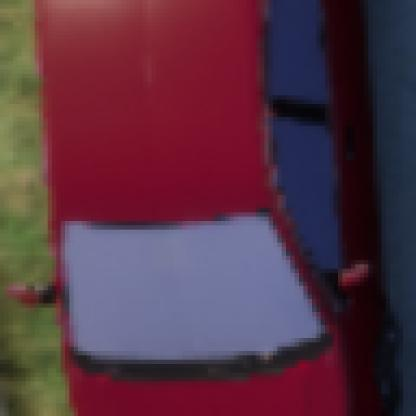Car: (35, 0, 399, 412)
